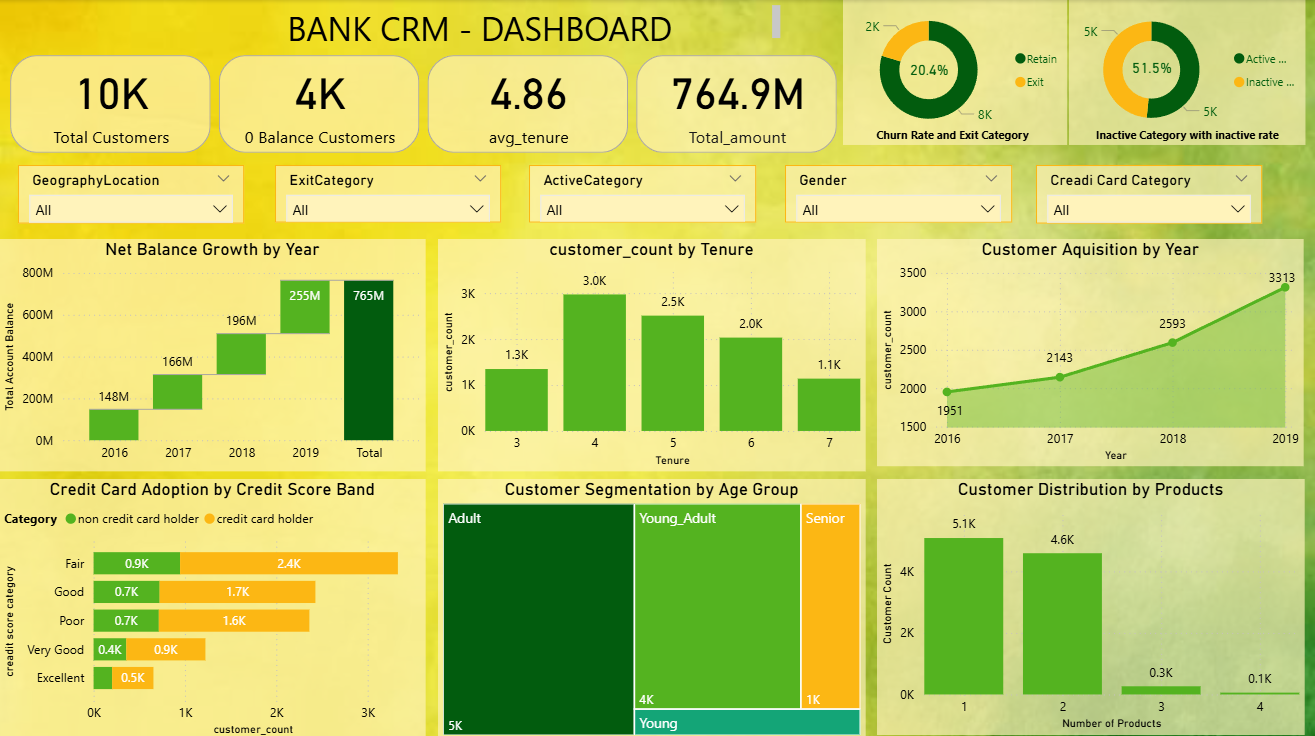

What the dashboard file says about the page in this screenshot:
{"tool":"powerbi","page":{"name":"Overview","canvas":[1280,720],"ordinal":0},"visuals":[{"type":"waterfallChart","title":"Net Balance Growth by Year","fields":{"Category":["CustomerInfo.Bank DOJ.Variation.Date Hierarchy.Year","CustomerInfo.Bank DOJ.Variation.Date Hierarchy.Quarter","CustomerInfo.Bank DOJ.Variation.Date Hierarchy.Month","CustomerInfo.Bank DOJ.Variation.Date Hierarchy.Day"],"Y":["_Measures.Total_amount"]},"box":[0,232.9,415,225.7],"z":0},{"type":"cardVisual","fields":{"Data":["_Measures.customer_count","_Measures.Acc count with 0 balanace","_Measures.avg_tenure","_Measures.Total_amount"]},"box":[5.7,48.6,815.7,105.7],"z":1000},{"type":"columnChart","title":"Customer Distribution by Products ","fields":{"Category":["Bank_Churn.NumOfProducts"],"Y":["_Measures.customer_count"]},"box":[854.3,465.7,415.7,248.6],"z":2000},{"type":"areaChart","title":"Customer Aquisition by Year","fields":{"Category":["CustomerInfo.Bank DOJ.Variation.Date Hierarchy.Year","CustomerInfo.Bank DOJ.Variation.Date Hierarchy.Month"],"Y":["_Measures.customer_count"]},"box":[854.3,232.9,415,221.4],"z":3000},{"type":"barChart","title":"Credit Card Adoption by Credit Score Band","fields":{"Category":["Bank_Churn.creadit score category"],"Y":["_Measures.customer_count"],"Series":["credit_card.Category"]},"box":[0,465.7,415,254.3],"z":4000},{"type":"treemap","title":"Customer Segmentation by Age Group","fields":{"Group":["CustomerInfo.age_group"],"Values":["_Measures.customer_count"]},"box":[427.1,465.7,415.7,254.3],"z":5000},{"type":"columnChart","fields":{"Category":["Bank_Churn.Tenure"],"Y":["_Measures.customer_count"]},"box":[427.1,232.9,415.7,225.7],"z":6000},{"type":"textbox","box":[178.6,0,585.7,47.1],"z":7000},{"type":"slicer","fields":{"Values":["gender.GenderCategory"]},"box":[764.5,160.5,220.8,56.4],"z":8000},{"type":"group","id":"g1","title":"Group 2","box":[815.7,0,222.9,144.3],"z":9000},{"type":"donutChart","fields":{"Y":["_Measures.customer_count"],"Category":["exit.ExitCategory"]},"box":[820.8,0,217.7,140.8],"z":10000,"group":"g3"},{"type":"group","id":"g2","title":"Group 2","box":[1040.7,0,230,144],"z":10000},{"type":"donutChart","fields":{"Y":["_Measures.customer_count"],"Category":["active.ActiveCategory"]},"box":[1040.7,0,230.1,140.6],"z":10000,"group":"g4"},{"type":"group","id":"g3","title":"Group 1","box":[820.8,0,217.7,140.8],"z":11000,"group":"g1"},{"type":"group","id":"g4","title":"Group 1","box":[1040.7,0,230.1,140.6],"z":11000,"group":"g2"},{"type":"card","fields":{"Values":["_Measures.vlu"]},"box":[133.9,3.5,151.6,41.7],"z":11000},{"type":"card","fields":{"Values":["_Measures.Inactivity rate"]},"box":[1076.3,36.6,89,60.4],"z":11000,"group":"g4"},{"type":"card","fields":{"Values":["_Measures.churn rate"]},"box":[862.2,37.9,84.3,61.2],"z":11000,"group":"g3"},{"type":"slicer","fields":{"Values":["exit.ExitCategory"]},"box":[268.4,160.5,219.8,56.4],"z":12000},{"type":"textbox","box":[815.7,115.6,222.9,28.7],"z":13000,"group":"g1"},{"type":"textbox","box":[1040.7,115.8,230.1,28.7],"z":13000,"group":"g2"},{"type":"slicer","fields":{"Values":["active.ActiveCategory"]},"box":[515.5,160.5,220.8,56.4],"z":13000},{"type":"slicer","fields":{"Values":["geography.GeographyLocation"]},"box":[18.6,160,220,57.1],"z":14000},{"type":"slicer","fields":{"Values":["credit_card.Category"]},"box":[1008.6,160,220,57.1],"z":15000}]}

Visuals, with their boxes in screenshot pixels (x1, y1, x2, y2), scaled from the page's 1280x720 canvas onto the 1315x736 screenshot:
"Net Balance Growth by Year" waterfallChart: x1=0 y1=238 x2=426 y2=469
cardVisual - _Measures.customer_count x _Measures.Acc count with 0 balanace: x1=6 y1=50 x2=844 y2=158
"Customer Distribution by Products " columnChart: x1=878 y1=476 x2=1305 y2=730
"Customer Aquisition by Year" areaChart: x1=878 y1=238 x2=1304 y2=464
"Credit Card Adoption by Credit Score Band" barChart: x1=0 y1=476 x2=426 y2=735
"Customer Segmentation by Age Group" treemap: x1=439 y1=476 x2=866 y2=735
columnChart - Bank_Churn.Tenure x _Measures.customer_count: x1=439 y1=238 x2=866 y2=469
textbox: x1=183 y1=0 x2=785 y2=48
slicer - gender.GenderCategory: x1=785 y1=164 x2=1012 y2=222
"Group 2" group: x1=838 y1=0 x2=1067 y2=148
donutChart - _Measures.customer_count x exit.ExitCategory: x1=843 y1=0 x2=1067 y2=144
"Group 2" group: x1=1069 y1=0 x2=1305 y2=147
donutChart - _Measures.customer_count x active.ActiveCategory: x1=1069 y1=0 x2=1306 y2=144
"Group 1" group: x1=843 y1=0 x2=1067 y2=144
"Group 1" group: x1=1069 y1=0 x2=1306 y2=144
card - _Measures.vlu: x1=138 y1=4 x2=293 y2=46
card - _Measures.Inactivity rate: x1=1106 y1=37 x2=1197 y2=99
card - _Measures.churn rate: x1=886 y1=39 x2=972 y2=101
slicer - exit.ExitCategory: x1=276 y1=164 x2=502 y2=222
textbox: x1=838 y1=118 x2=1067 y2=148
textbox: x1=1069 y1=118 x2=1306 y2=148
slicer - active.ActiveCategory: x1=530 y1=164 x2=756 y2=222
slicer - geography.GeographyLocation: x1=19 y1=164 x2=245 y2=222
slicer - credit_card.Category: x1=1036 y1=164 x2=1262 y2=222
